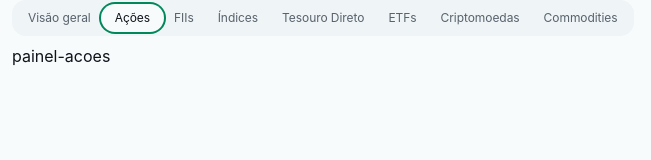
Test case: Navegação da grade de Cotações › troca de painel ao clicar em cada aba restante
Earlier steps of the test are not shown.
Expected: the text "painel-acoes" is shown, [12,46,110,66]
Press the mouse on the tab "FIIs" at (184,18), box [162,6,206,30]
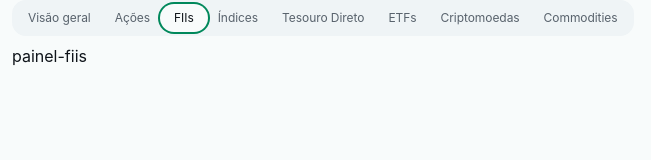
Expected: the text "painel-fiis" is shown, [12,46,87,66]
Press the mouse on the tab "Índices" at (238,18), box [206,6,270,30]
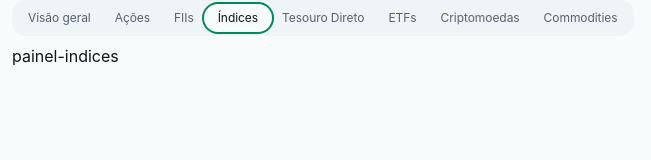
Expected: the text "painel-indices" is shown, [12,46,119,66]
Press the mouse on the tab "Tesouro Direto" at (323,18), box [270,6,376,30]
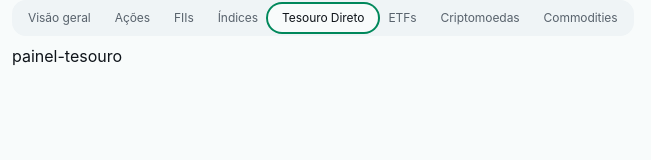
Expected: the text "painel-tesouro" is shown, [12,46,122,66]
Press the mouse on the tab "ETFs" at (402,18), box [376,6,428,30]
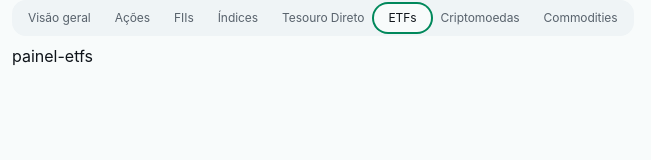
Expected: the text "painel-etfs" is shown, [12,46,93,66]
Press the mouse on the tab "Criptomoedas" at (480,18), box [428,6,532,30]
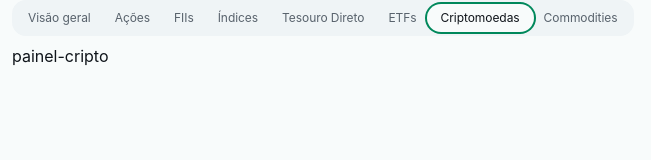
Expected: the text "painel-cripto" is shown, [12,46,108,66]
Press the mouse on the tab "Commodities" at (581,18), box [532,6,630,30]
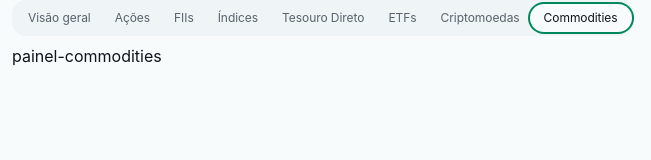
Expected: the text "painel-commodities" is shown, [12,46,162,66]
